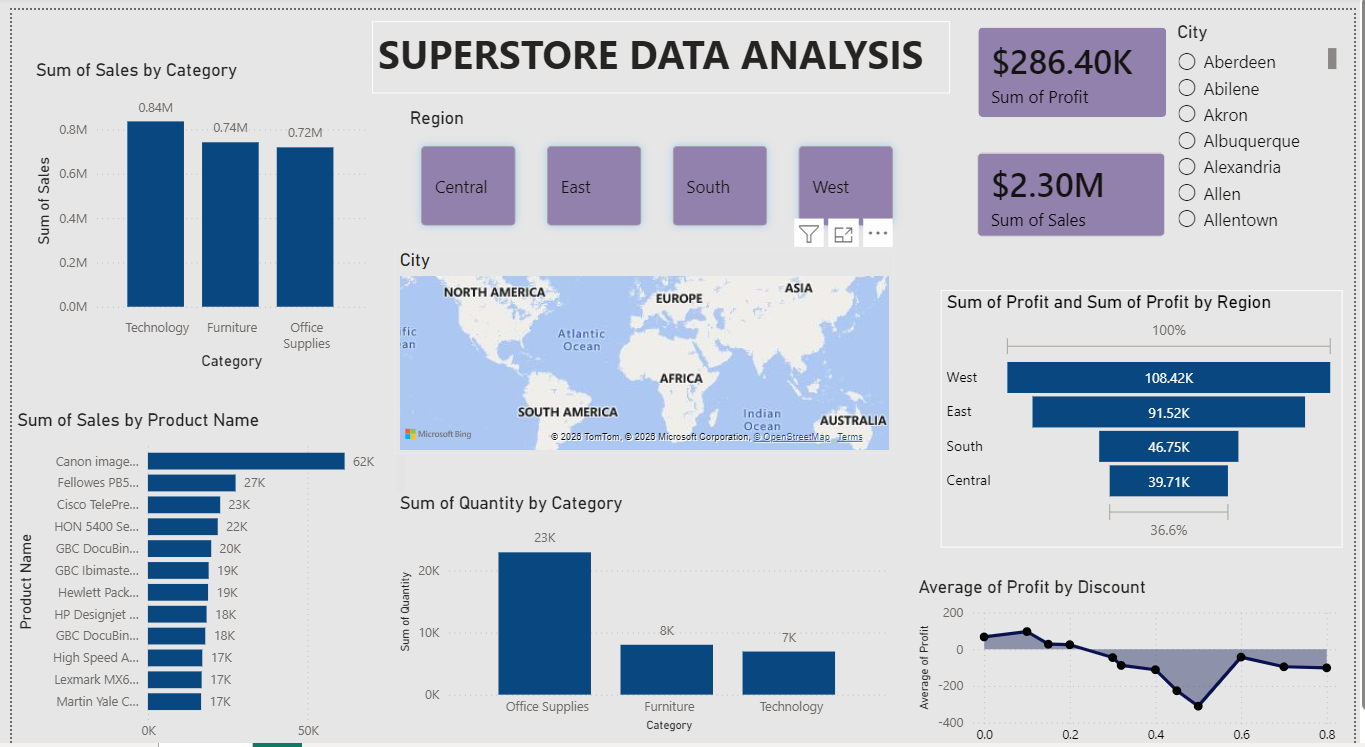

Layout of this report page (visuals, bound fields, positions):
{"tool":"powerbi","page":{"name":"Page 1","canvas":[1280,720],"ordinal":0},"visuals":[{"type":"columnChart","fields":{"Category":["cleaned_superstore.Category"],"Y":["Sum(cleaned_superstore.Sales)"]},"box":[18.2,46.3,325.3,301.5],"z":0},{"type":"textbox","box":[343.6,11.2,551.1,68.7],"z":1000},{"type":"funnel","fields":{"Category":["cleaned_superstore.Region"],"Y":["Sum(cleaned_superstore.Profit)"]},"box":[886.2,266.4,382.8,245.4],"z":2000},{"type":"clusteredBarChart","fields":{"Category":["cleaned_superstore.Product Name"],"Y":["Sum(cleaned_superstore.Sales)"]},"box":[0,380,380,339.4],"z":3000},{"type":"cardVisual","fields":{"Data":["Sum(cleaned_superstore.Sales)"]},"box":[903.9,119.7,213.2,114.5],"z":4000},{"type":"advancedSlicerVisual","fields":{"Values":["cleaned_superstore.Region"]},"box":[374.4,92.6,485.2,129],"z":5000},{"type":"cardVisual","fields":{"Data":["Sum(cleaned_superstore.Profit)"]},"box":[904.5,0,213.1,119.2],"z":6000},{"type":"columnChart","fields":{"Category":["cleaned_superstore.Category"],"Y":["Sum(cleaned_superstore.Quantity)"]},"box":[364.6,459.9,476.8,232.8],"z":7000},{"type":"areaChart","fields":{"Category":["cleaned_superstore.Discount"],"Y":["Avg(cleaned_superstore.Profit)"]},"box":[859.6,539.9,409.5,179.5],"z":8000},{"type":"listSlicer","fields":{"Values":["cleaned_superstore.City"]},"box":[1106.4,11.2,162.7,210.3],"z":9000},{"type":"filledMap","fields":{"Category":["cleaned_superstore.City"]},"box":[364.6,227.2,476.8,196.3],"z":10000}]}

Visuals, with their boxes in screenshot pixels (x1, y1, x2, y2), scaled from the page's 1280x720 canvas onto the 1365x747 screenshot:
columnChart - cleaned_superstore.Category x Sum(cleaned_superstore.Sales): 19 48 366 361
textbox: 366 12 954 83
funnel - cleaned_superstore.Region x Sum(cleaned_superstore.Profit): 945 276 1353 531
clusteredBarChart - cleaned_superstore.Product Name x Sum(cleaned_superstore.Sales): 0 394 405 746
cardVisual - Sum(cleaned_superstore.Sales): 964 124 1191 243
advancedSlicerVisual - cleaned_superstore.Region: 399 96 917 230
cardVisual - Sum(cleaned_superstore.Profit): 965 0 1192 124
columnChart - cleaned_superstore.Category x Sum(cleaned_superstore.Quantity): 389 477 897 719
areaChart - cleaned_superstore.Discount x Avg(cleaned_superstore.Profit): 917 560 1353 746
listSlicer - cleaned_superstore.City: 1180 12 1353 230
filledMap - cleaned_superstore.City: 389 236 897 439
